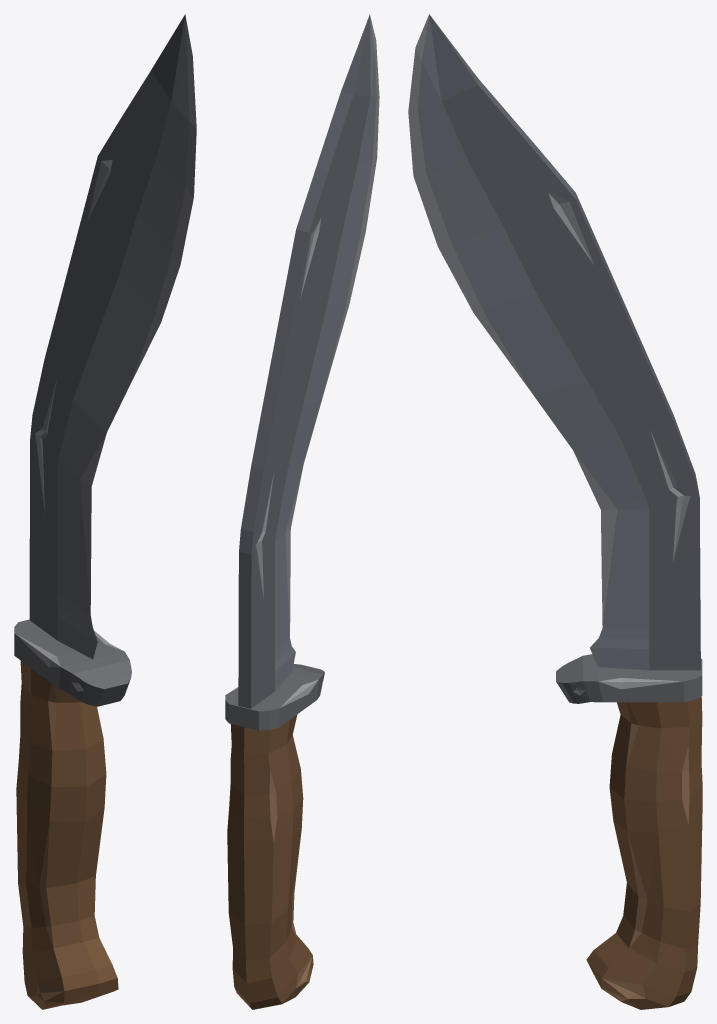
The model's file is mesh_kukri.fbx.
The picture shows the model from 3 angles, left to right: view 1: azimuth 30°, elevation 25°; view 2: azimuth 150°, elevation 25°; view 3: azimuth 270°, elevation 25°; orthographic projection. The views are drawn at different scales.
Parts seen in each view (by area): view 1: mesh_kukri; view 2: mesh_kukri; view 3: mesh_kukri.
Part boxes in pixels (x1,y1,x2,y2): mesh_kukri: (14,14,196,1009); mesh_kukri: (225,14,379,1009); mesh_kukri: (408,14,702,1009).
Size of the model in its own units: 0.0507 by 0.7838 by 0.2116.
